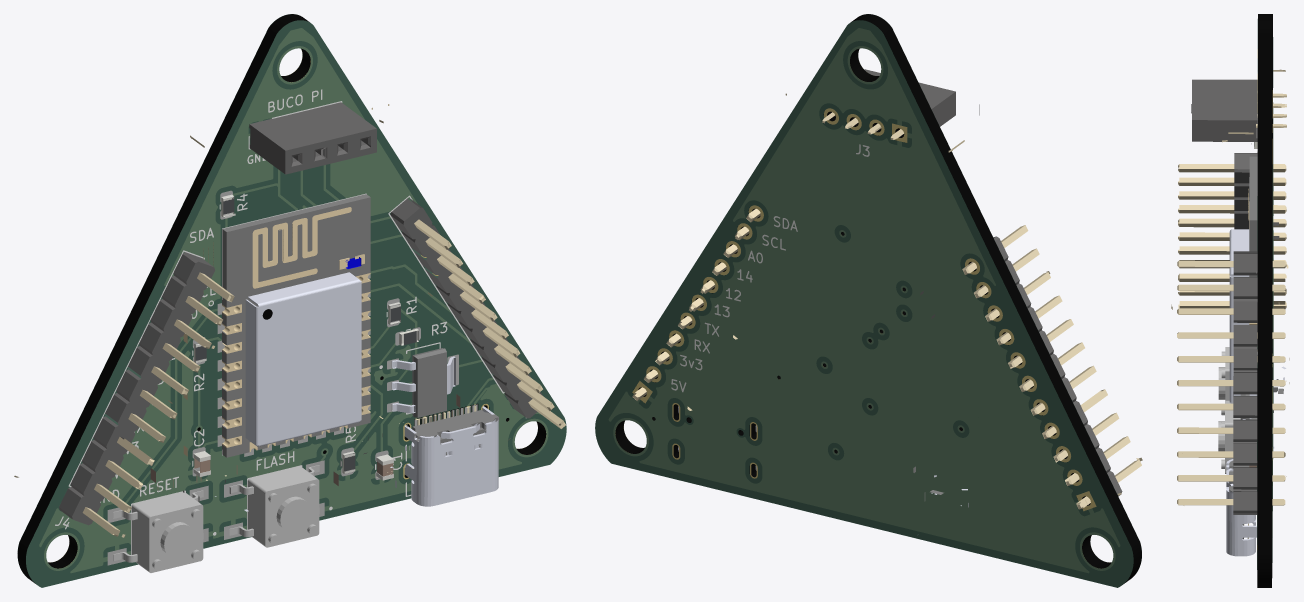
The model's file is bucopi2.glb.
3 renders of one model, left to right at view 1: azimuth 30°, elevation 25°; view 2: azimuth 150°, elevation 25°; view 3: azimuth 270°, elevation 25°, orthographic. The views are drawn at different scales.
Parts seen in each view (by area): view 1: SHAPE_1793_IndexedFaceSet, SHAPE_1789_IndexedFaceSet, SHAPE_1791_IndexedFaceSet, SHAPE_572_IndexedFaceSet, SHAPE_203_IndexedFaceSet, SHAPE_1790_IndexedFaceSet, SHAPE_739_IndexedFaceSet.001, SHAPE_1539_IndexedFaceSet, SHAPE_1796_IndexedFaceSet, SHAPE_1792_IndexedFaceSet, SHAPE_601_IndexedFaceSet, SHAPE_739_IndexedFaceSet (+16 smaller); view 2: SHAPE_1795_IndexedFaceSet, SHAPE_1794_IndexedFaceSet, SHAPE_1789_IndexedFaceSet, SHAPE_1790_IndexedFaceSet, SHAPE_1797_IndexedFaceSet; view 3: SHAPE_1790_IndexedFaceSet, SHAPE_601_IndexedFaceSet, SHAPE_602_IndexedFaceSet, SHAPE_1795_IndexedFaceSet, SHAPE_1540_IndexedFaceSet, SHAPE_207_IndexedFaceSet, SHAPE_763_IndexedFaceSet, SHAPE_737_IndexedFaceSet, SHAPE_757_IndexedFaceSet, SHAPE_793_IndexedFaceSet, SHAPE_799_IndexedFaceSet, SHAPE_769_IndexedFaceSet (+47 smaller).
Boxes of the visible parts, <box> form: SHAPE_1793_IndexedFaceSet: <box>26,20,566,587</box>; SHAPE_1789_IndexedFaceSet: <box>25,20,565,586</box>; SHAPE_1791_IndexedFaceSet: <box>40,28,547,572</box>; SHAPE_572_IndexedFaceSet: <box>258,282,360,445</box>; SHAPE_203_IndexedFaceSet: <box>226,197,370,457</box>; SHAPE_1790_IndexedFaceSet: <box>17,14,545,583</box>; SHAPE_739_IndexedFaceSet.001: <box>72,261,214,525</box>; SHAPE_1539_IndexedFaceSet: <box>434,423,492,505</box>; SHAPE_1796_IndexedFaceSet: <box>55,89,526,554</box>; SHAPE_1792_IndexedFaceSet: <box>107,190,477,565</box>; SHAPE_601_IndexedFaceSet: <box>250,102,376,150</box>; SHAPE_739_IndexedFaceSet: <box>403,208,542,418</box>; SHAPE_1795_IndexedFaceSet: <box>595,20,1133,587</box>; SHAPE_1794_IndexedFaceSet: <box>609,28,1119,572</box>; SHAPE_1789_IndexedFaceSet: <box>596,20,1133,587</box>; SHAPE_1790_IndexedFaceSet: <box>615,14,1141,583</box>; SHAPE_1797_IndexedFaceSet: <box>671,144,869,392</box>; SHAPE_1790_IndexedFaceSet: <box>1257,14,1272,587</box>; SHAPE_601_IndexedFaceSet: <box>1192,79,1257,120</box>; SHAPE_602_IndexedFaceSet: <box>1192,120,1257,141</box>; SHAPE_1795_IndexedFaceSet: <box>1272,37,1273,562</box>; SHAPE_1540_IndexedFaceSet: <box>1226,490,1237,556</box>; SHAPE_207_IndexedFaceSet: <box>1249,156,1257,220</box>; SHAPE_763_IndexedFaceSet: <box>1233,396,1257,415</box>; SHAPE_737_IndexedFaceSet: <box>1233,491,1257,510</box>; SHAPE_757_IndexedFaceSet: <box>1233,420,1257,439</box>; SHAPE_793_IndexedFaceSet: <box>1233,277,1257,296</box>; SHAPE_799_IndexedFaceSet: <box>1233,253,1257,272</box>; SHAPE_769_IndexedFaceSet: <box>1233,372,1257,391</box>.
Size of the model in its own units: 60.1 by 53.79 by 12.62.
